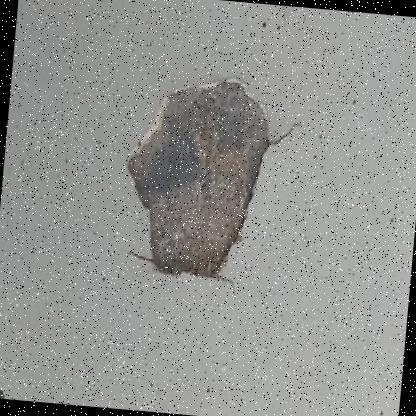Crack: (87, 51, 311, 369), (0, 378, 11, 399)
